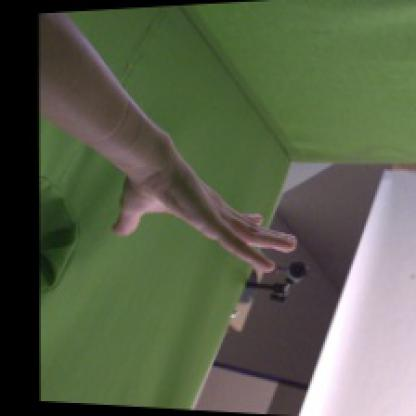Hand: (112, 166, 299, 275)
